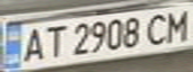0: (106, 16, 127, 52)
2: (66, 19, 90, 56)
8: (121, 14, 145, 48)
9: (87, 18, 109, 54)
A: (18, 25, 48, 63)
C: (142, 10, 172, 46)
M: (160, 6, 193, 43)
T: (39, 22, 69, 60)
